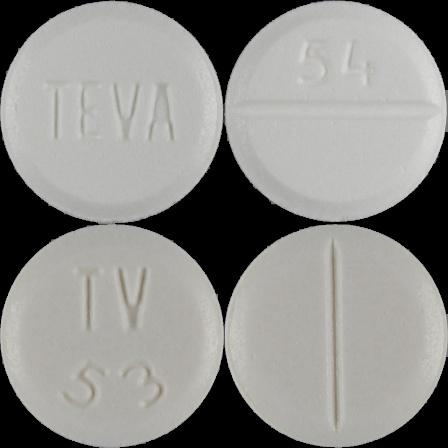68788-9844: (0, 0, 224, 224)
